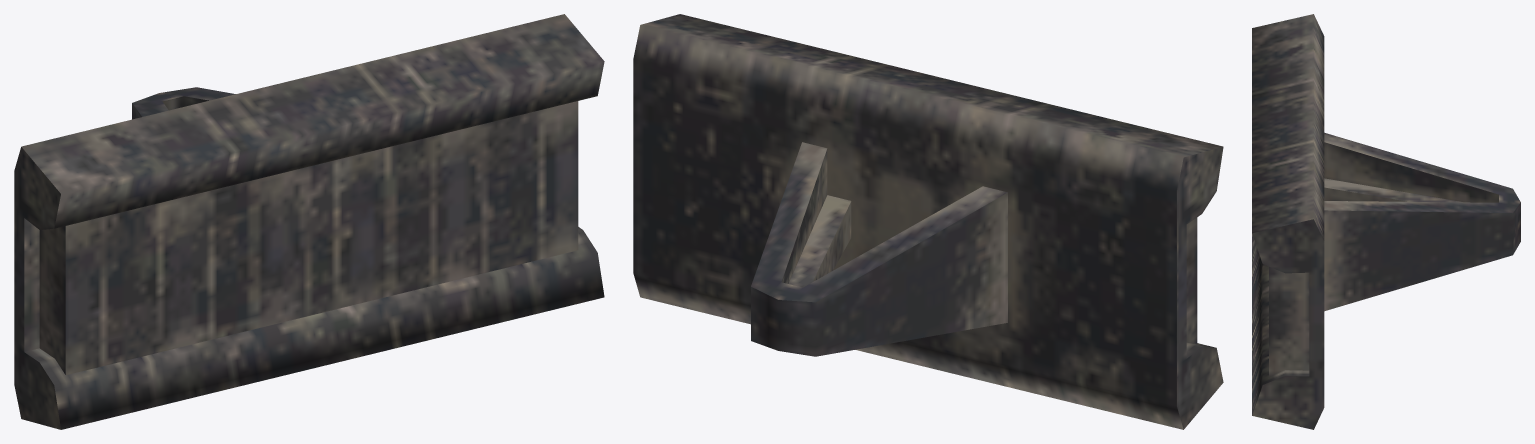
3 views of the same model, side by side, from view 1: azimuth 30°, elevation 25°; view 2: azimuth 150°, elevation 25°; view 3: azimuth 270°, elevation 25° (orthographic). The views are drawn at different scales.
Visible parts, largest first — view 1: set_0_group_0; view 2: set_0_group_0; view 3: set_0_group_0.
Part boxes in pixels (box(x1,y1,x2,y2)): set_0_group_0: box(14, 14, 604, 429); set_0_group_0: box(633, 14, 1223, 429); set_0_group_0: box(1252, 14, 1520, 429).
Bounding box in the file's own units: 0.174 × 0.0834 × 0.0963.
Materials: 1 (1 with a texture image).
